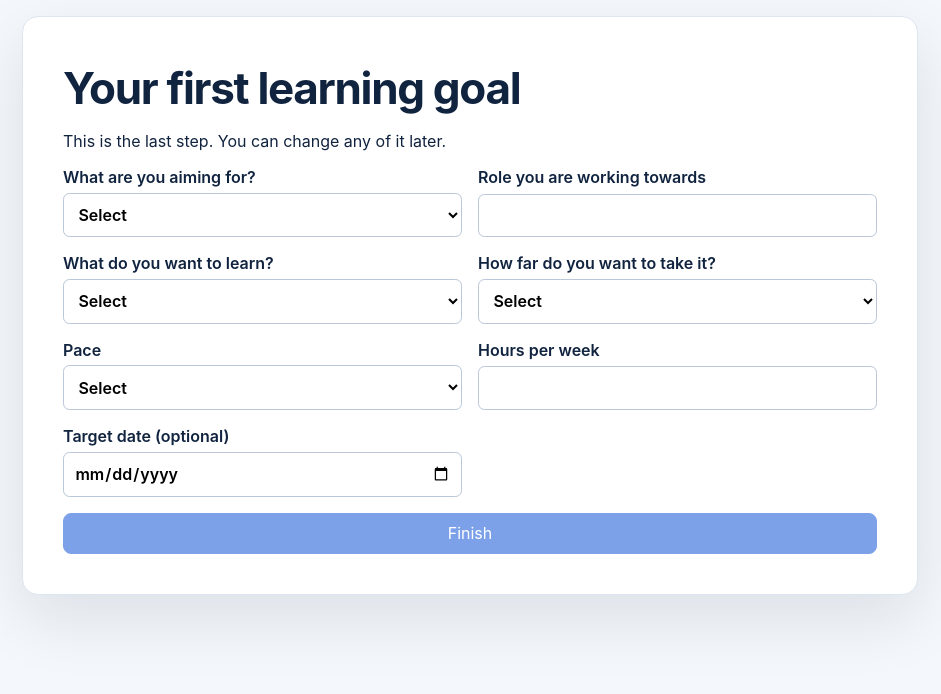
it: keeps the learner on the journey step when the submission fails
Select "Prepare for a certification" in the dropdown labelled "What are you aiming for?": (262, 215) [63, 193, 462, 237]
In the field labelled "Role you are working towards": (678, 216) [478, 194, 877, 237], type "Platform Engineer"
Select "Apache Kafka" in the dropdown labelled "What do you want to learn?": (262, 301) [63, 279, 462, 324]
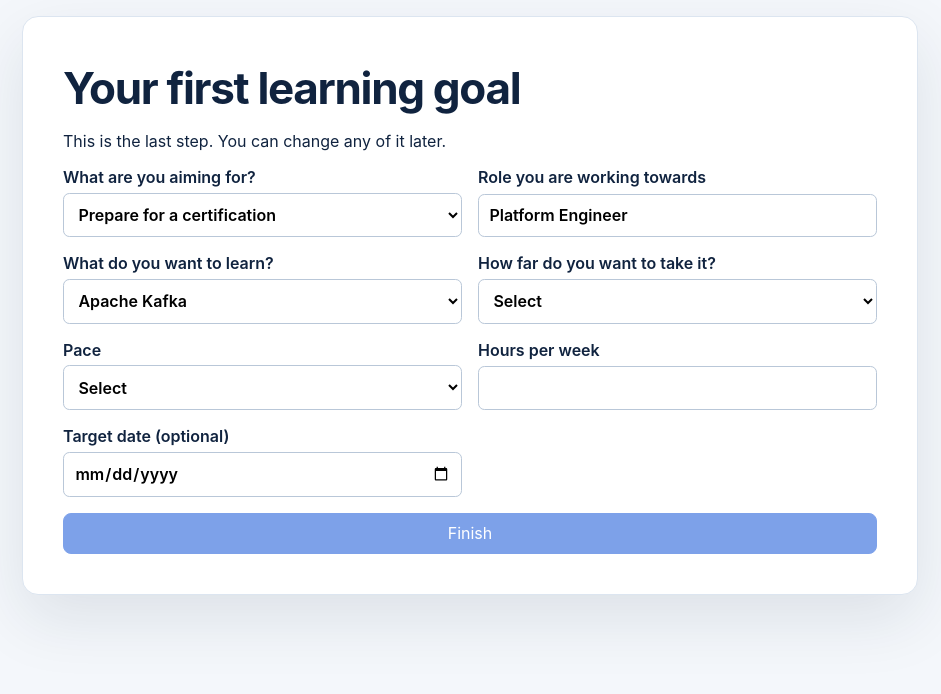
Select "Mastery" in the dropdown labelled "How far do you want to take it?": (678, 301) [478, 279, 877, 324]
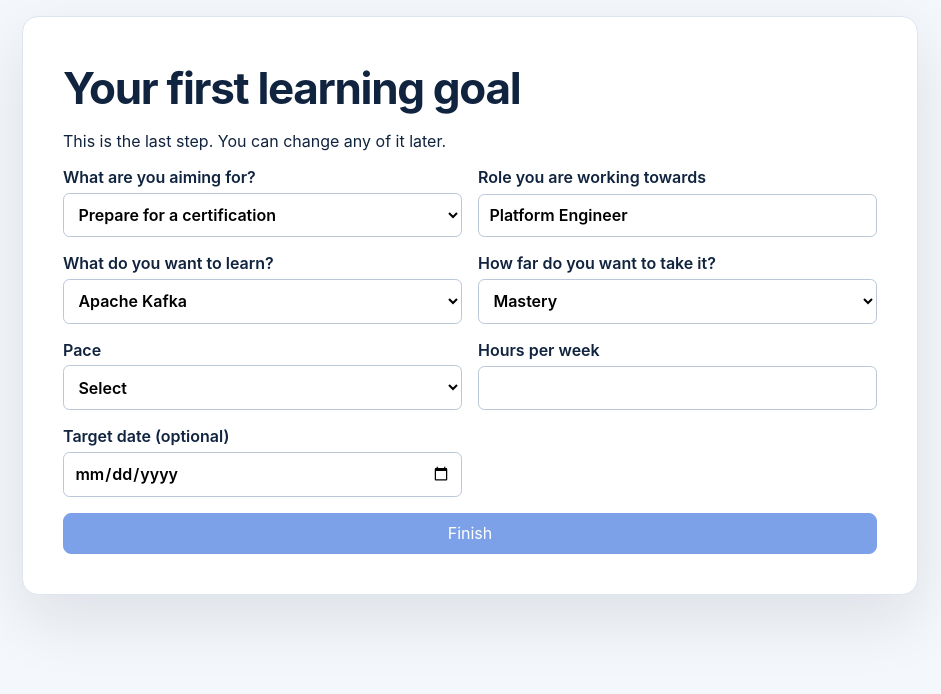
Select "Intensive" in the dropdown labelled "Pace": (262, 388) [63, 365, 462, 410]
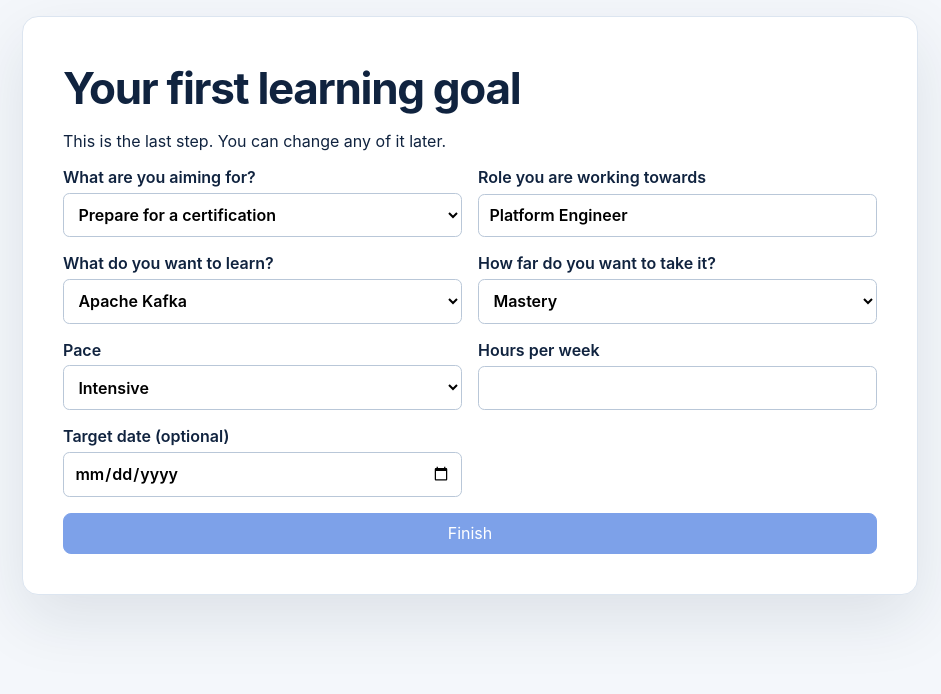
In the number field labelled "Hours per week": (678, 388) [478, 366, 877, 410], type "20"
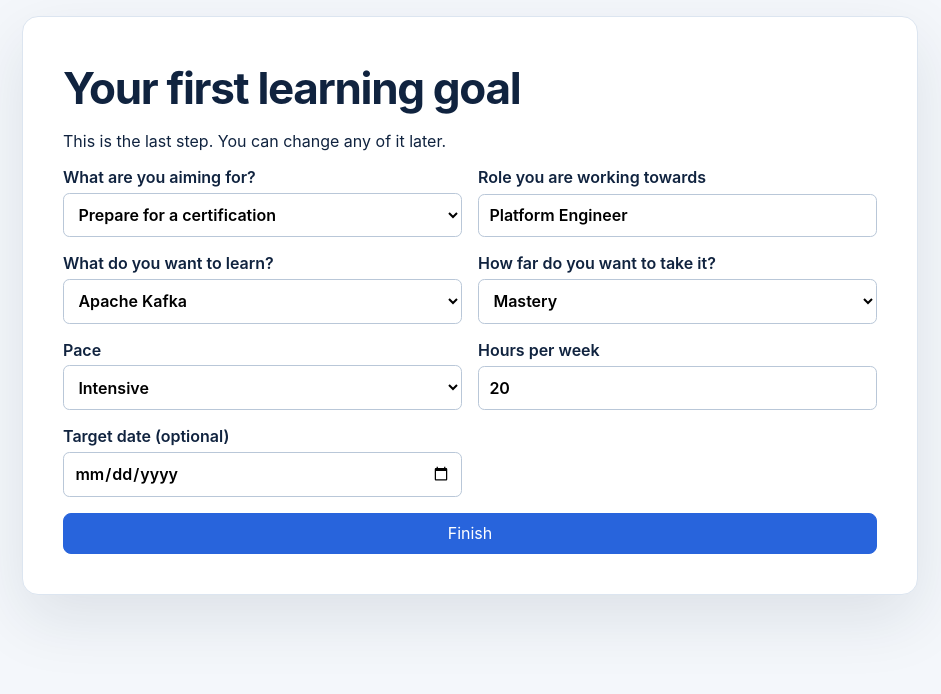
# An optional date, supplied this time: it must be sent as a value rather than dropped.
In the date field labelled "Target date (optional)": (262, 474) [63, 452, 462, 496], type "2027-06-30"
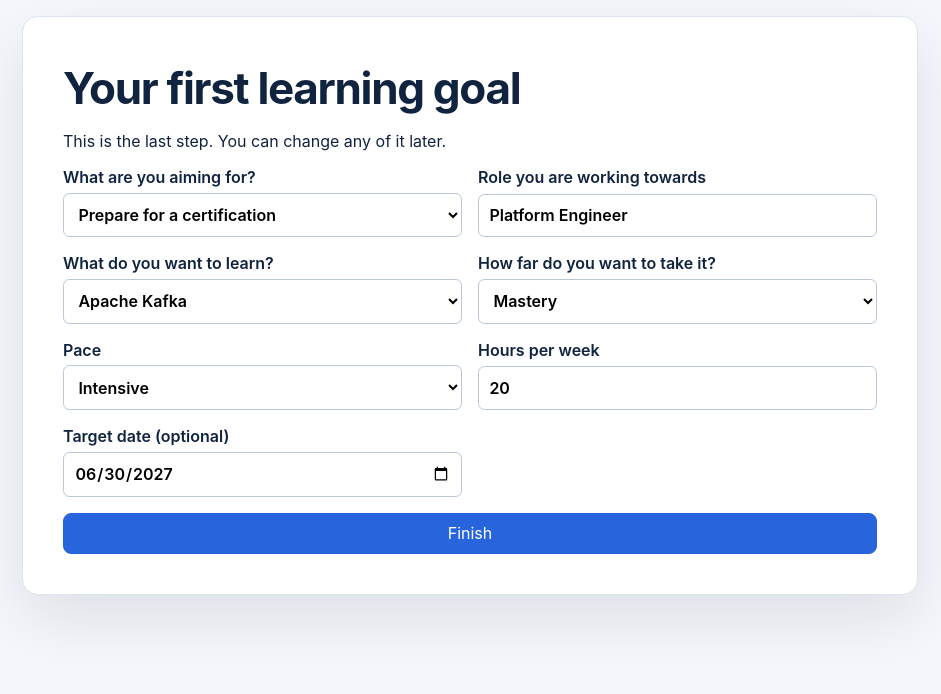
Click the button "Finish": (470, 533) [63, 512, 877, 554]
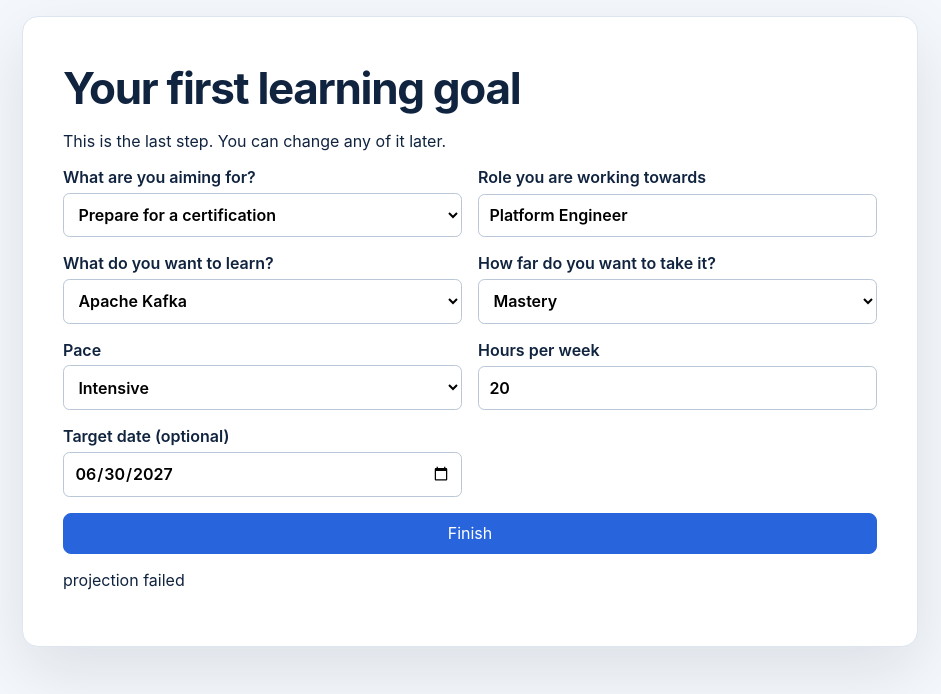
Expected: the message "projection failed" is shown, [63, 570, 185, 590]
